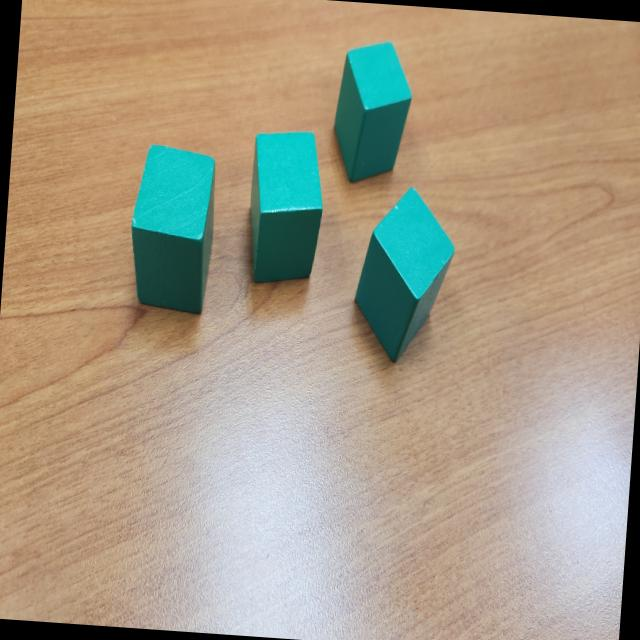green: (350, 182, 459, 366), (124, 142, 220, 316), (242, 129, 328, 287), (328, 38, 416, 188)
